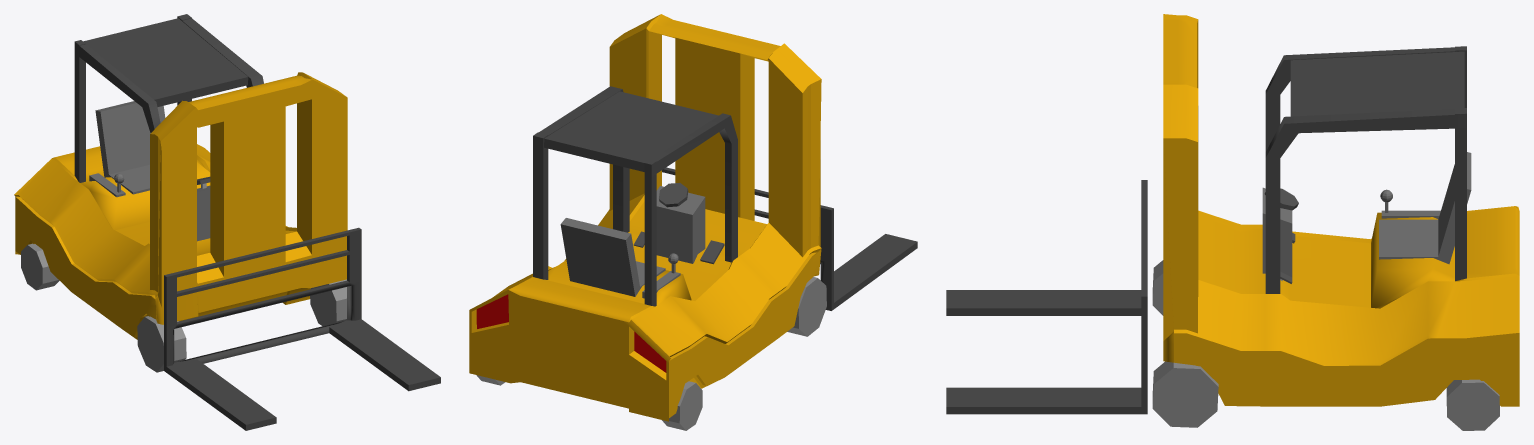
File: Forklift.fbx
The picture shows the model from 3 angles, left to right: view 1: azimuth 30°, elevation 25°; view 2: azimuth 150°, elevation 25°; view 3: azimuth 270°, elevation 25°; orthographic projection. The views are drawn at different scales.
Visible parts, largest first — view 1: pCylinder7; view 2: pCylinder7; view 3: pCylinder7.
Part boxes in pixels (<box>): pCylinder7: <box>14,14,440,430</box>; pCylinder7: <box>469,14,917,430</box>; pCylinder7: <box>946,14,1519,430</box>.
Size of the model in its own units: 229 by 292 by 470.
